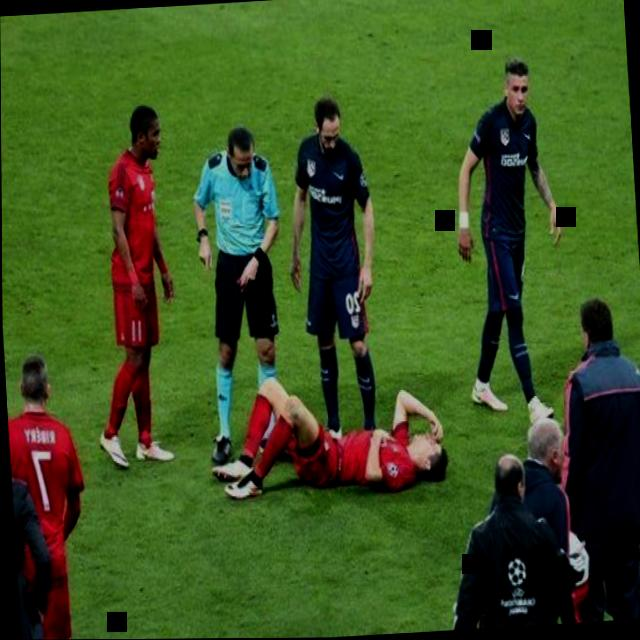Fall-Detected: (213, 353, 456, 504)
